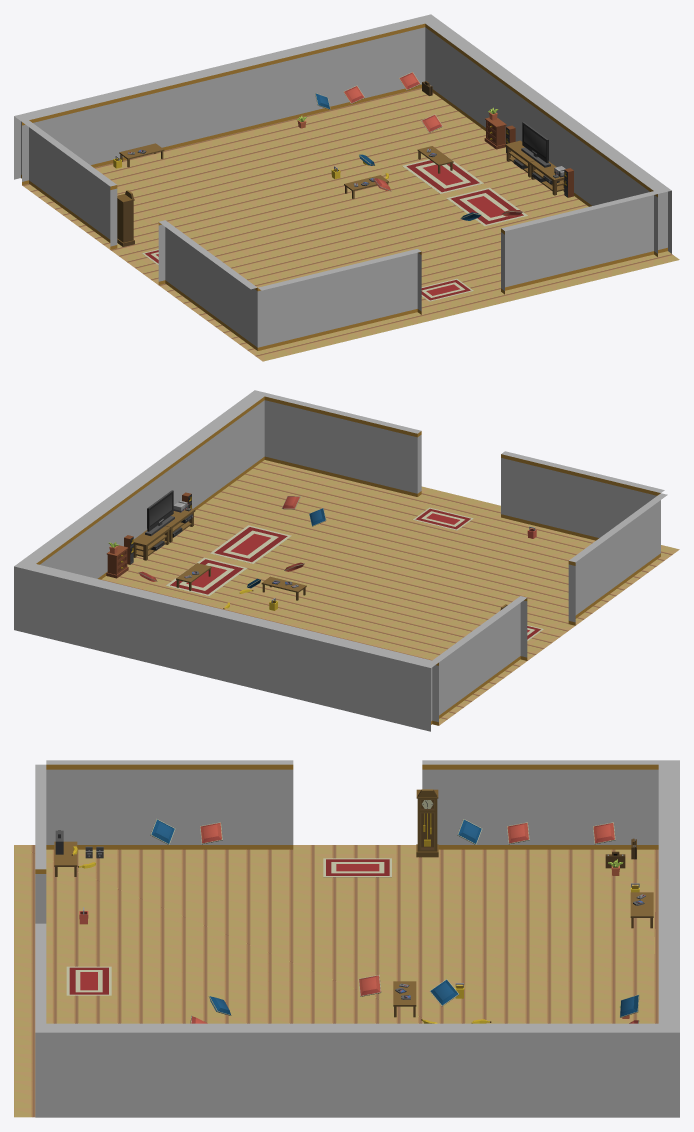
The model's file is Lounge (2)_hub.FBX.
3 renders of one model, top to bottom at view 1: azimuth 30°, elevation 25°; view 2: azimuth 150°, elevation 25°; view 3: azimuth 270°, elevation 25°, orthographic. The views are drawn at different scales.
Visible parts, largest first — view 1: Floor, Room - Inner (×2), InnerWall, InnerWall (1), Room - Lounge-detach (×2), InnerWall (2), InnerWall (3), Prop_Rug_01 (1), Prop_Rug_01 (2), Prop_Big_Clock, Prop_Tv_06, Prop_Rug_04 (1) (+2 smaller); view 2: Floor, Room - Lounge-detach (×2), InnerWall, Room - Inner, InnerWall (1), InnerWall (2), InnerWall (3), Prop_Rug_01 (1), Prop_Rug_01 (2), Base Room, Prop_Tv_06, Prop_Rug_04 (1) (+2 smaller); view 3: Floor, Room - Lounge-detach (×2), InnerWall (2), InnerWall (3), InnerWall, Base Room, InnerWall (1), Prop_Big_Clock, Prop_Rug_04, Prop_Rug_04 (1), Prop_Small_Table_03, Prop_Small_Table_03 (2) (+1 smaller).
Part boxes in pixels (x1=…): Floor: x1=22, y1=88, x2=679, y2=361; Room - Inner (×2): x1=22, y1=23, x2=657, y2=256; InnerWall: x1=501, y1=190, x2=671, y2=294; InnerWall (1): x1=257, y1=249, x2=421, y2=350; Room - Lounge-detach (×2): x1=14, y1=18, x2=671, y2=253; InnerWall (2): x1=158, y1=220, x2=257, y2=350; InnerWall (3): x1=14, y1=114, x2=117, y2=249; Prop_Rug_01 (1): x1=446, y1=187, x2=527, y2=226; Prop_Rug_01 (2): x1=402, y1=156, x2=483, y2=193; Prop_Big_Clock: x1=117, y1=190, x2=134, y2=246; Prop_Tv_06: x1=521, y1=122, x2=550, y2=167; Prop_Rug_04 (1): x1=421, y1=278, x2=473, y2=301; Floor: x1=101, y1=460, x2=679, y2=725; Room - Lounge-detach (×2): x1=22, y1=390, x2=434, y2=731; InnerWall: x1=264, y1=393, x2=421, y2=496; Room - Inner: x1=36, y1=397, x2=264, y2=579; InnerWall (1): x1=501, y1=451, x2=664, y2=540; InnerWall (2): x1=568, y1=493, x2=667, y2=625; InnerWall (3): x1=424, y1=596, x2=527, y2=724; Prop_Rug_01 (1): x1=210, y1=525, x2=291, y2=563; Prop_Rug_01 (2): x1=166, y1=557, x2=247, y2=596; Base Room: x1=14, y1=560, x2=35, y2=633; Prop_Tv_06: x1=145, y1=490, x2=174, y2=535; Prop_Rug_04 (1): x1=413, y1=507, x2=473, y2=530; Floor: x1=14, y1=845, x2=658, y2=1117; Room - Lounge-detach (×2): x1=35, y1=760, x2=679, y2=1117; InnerWall (2): x1=46, y1=760, x2=293, y2=849; InnerWall (3): x1=422, y1=760, x2=679, y2=849; InnerWall: x1=35, y1=923, x2=46, y2=1117; Base Room: x1=658, y1=1023, x2=679, y2=1117; InnerWall (1): x1=35, y1=764, x2=46, y2=923; Prop_Big_Clock: x1=416, y1=789, x2=438, y2=857; Prop_Rug_04: x1=323, y1=858, x2=391, y2=877; Prop_Rug_04 (1): x1=66, y1=966, x2=111, y2=995; Prop_Small_Table_03: x1=630, y1=892, x2=653, y2=928; Prop_Small_Table_03 (2): x1=393, y1=981, x2=416, y2=1017.
Size of the model in its own units: 30000 by 4375 by 31000.
